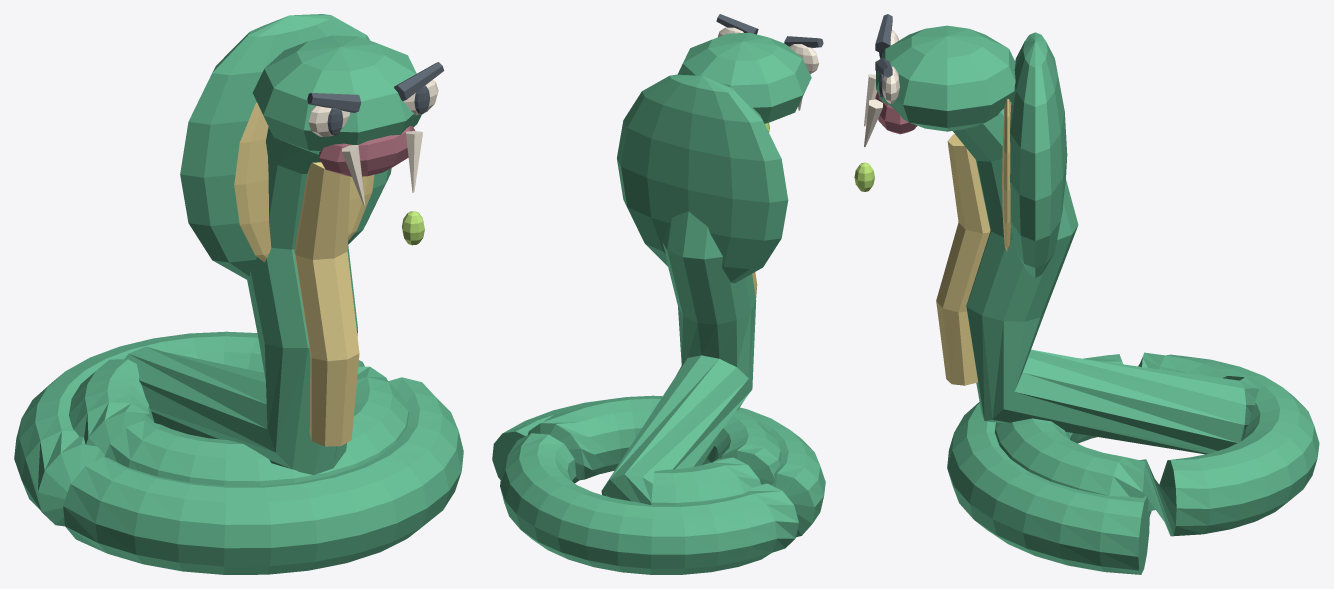
Rendered from venomous-snake.glb.
3 renders of one model, left to right at view 1: azimuth 30°, elevation 25°; view 2: azimuth 150°, elevation 25°; view 3: azimuth 270°, elevation 25°, orthographic. The views are drawn at different scales.
Visible parts, largest first — view 1: coiled_body, cobra_hood, golden_belly, head, golden_hood_front, open_mouth, angry_brow_-1, angry_brow_1, eye_-1, fang_-1, fang_1, venom_drop; view 2: coiled_body, cobra_hood, head, eye_-1; view 3: coiled_body, cobra_hood, head, golden_belly, golden_hood_front, open_mouth.
Part boxes in pixels (<box>): coiled_body: <box>14,127,463,574</box>; cobra_hood: <box>180,14,391,280</box>; golden_belly: <box>294,162,359,446</box>; head: <box>252,35,421,154</box>; golden_hood_front: <box>234,103,374,262</box>; open_mouth: <box>319,126,415,176</box>; angry_brow_-1: <box>307,93,361,112</box>; angry_brow_1: <box>394,62,444,101</box>; eye_-1: <box>308,105,349,136</box>; fang_-1: <box>342,145,365,204</box>; fang_1: <box>406,131,422,192</box>; venom_drop: <box>402,211,424,245</box>; coiled_body: <box>492,211,825,574</box>; cobra_hood: <box>617,74,788,283</box>; head: <box>677,32,811,123</box>; eye_-1: <box>789,44,819,74</box>; coiled_body: <box>947,102,1319,574</box>; cobra_hood: <box>1010,32,1067,277</box>; head: <box>876,25,1015,131</box>; golden_belly: <box>936,134,990,385</box>; golden_hood_front: <box>1002,99,1010,251</box>; open_mouth: <box>875,92,917,134</box>.
Bounding box in the file's own units: 2.77 × 3.6 × 3.27.
